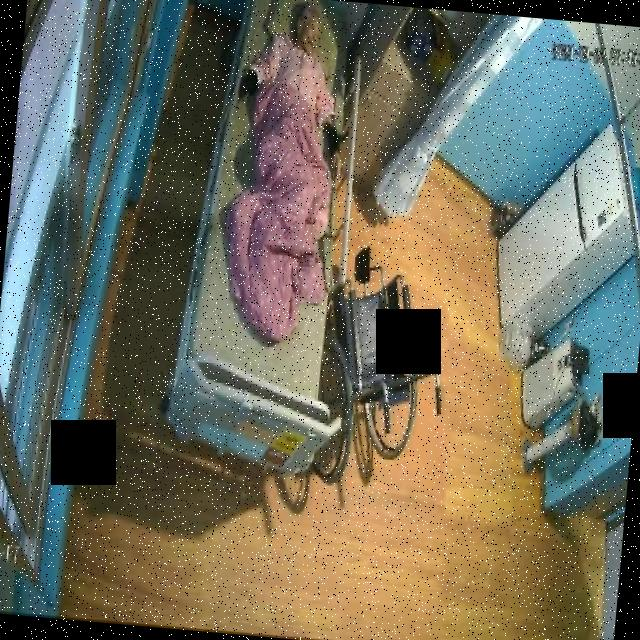bed: (165, 0, 367, 476)
lie: (216, 0, 353, 348)
patient: (233, 0, 352, 155)
